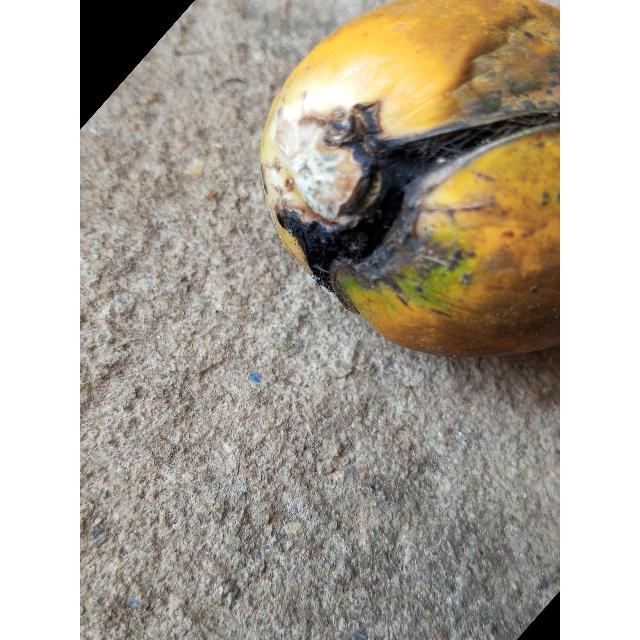damaged: (260, 0, 560, 360)
